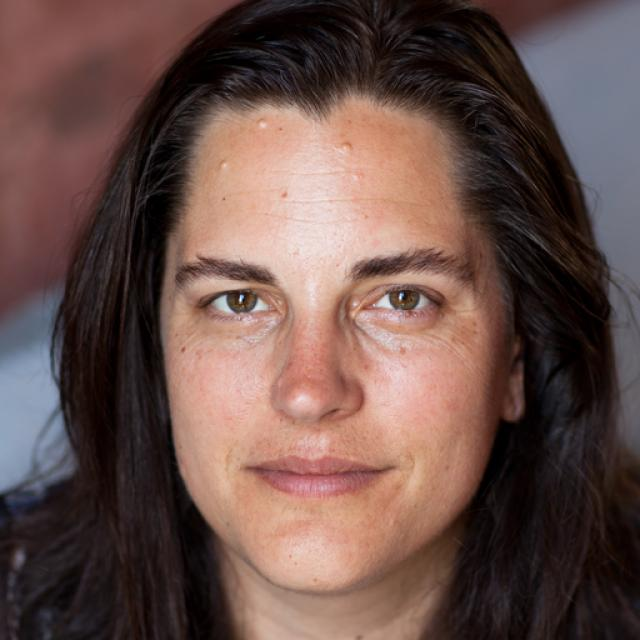Acne: (331, 136, 356, 155), (249, 112, 270, 134), (346, 167, 369, 183), (211, 156, 231, 174), (394, 341, 411, 357)
Pigmentation: (279, 324, 358, 400)
Wrinkle: (279, 193, 423, 207), (260, 212, 353, 228), (276, 164, 352, 178)
